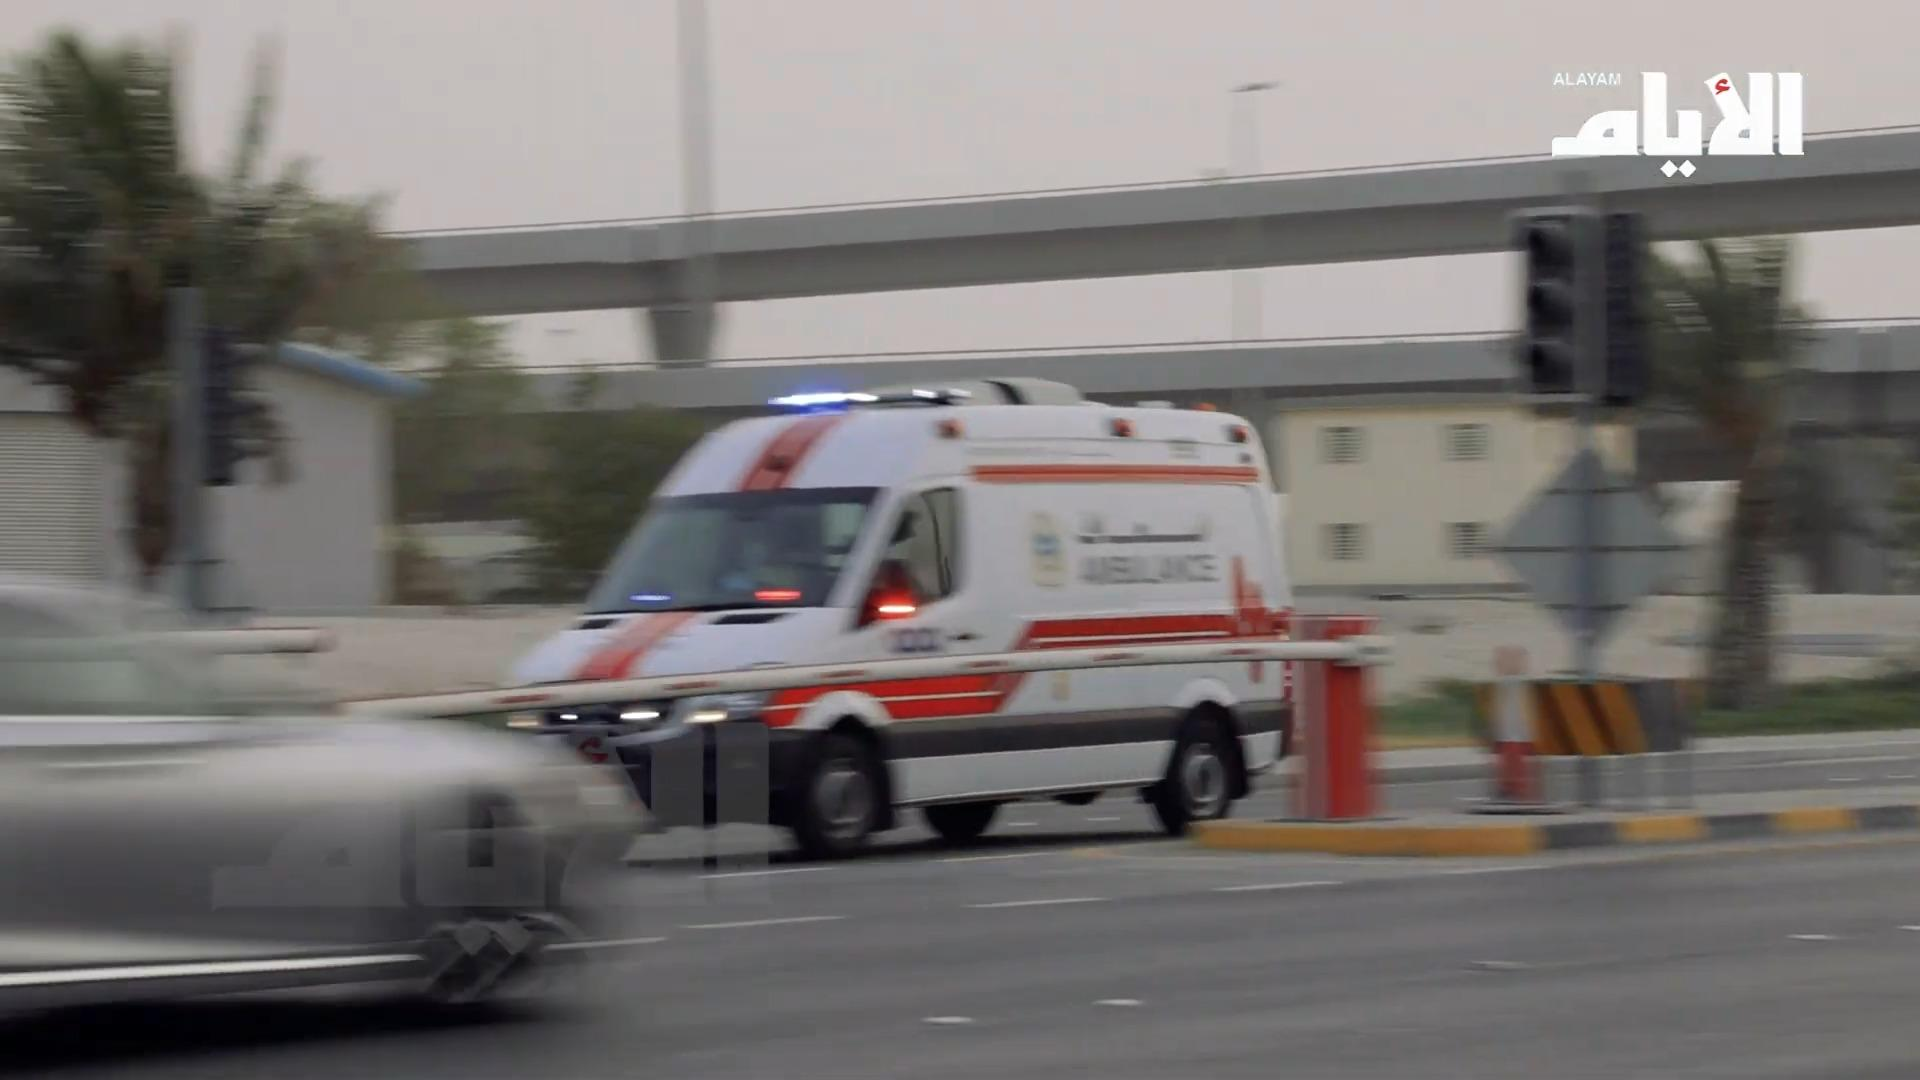ambulance_on: (504, 380, 1295, 860)
